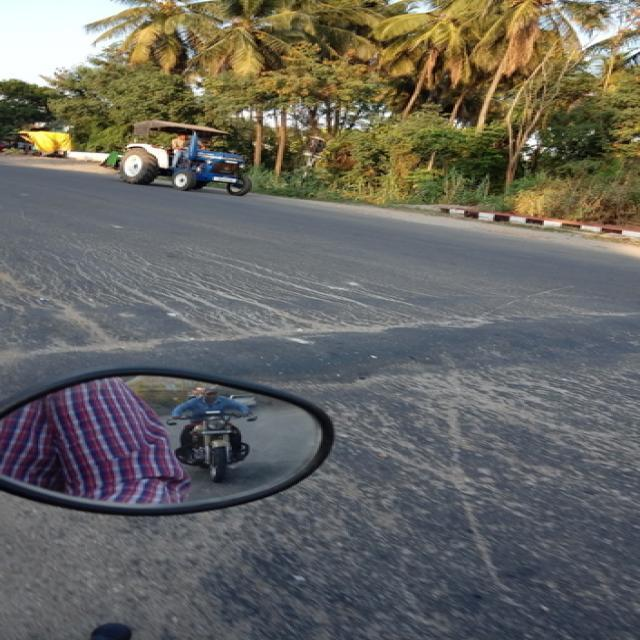NonMarked Bump: (25, 317, 632, 388)
